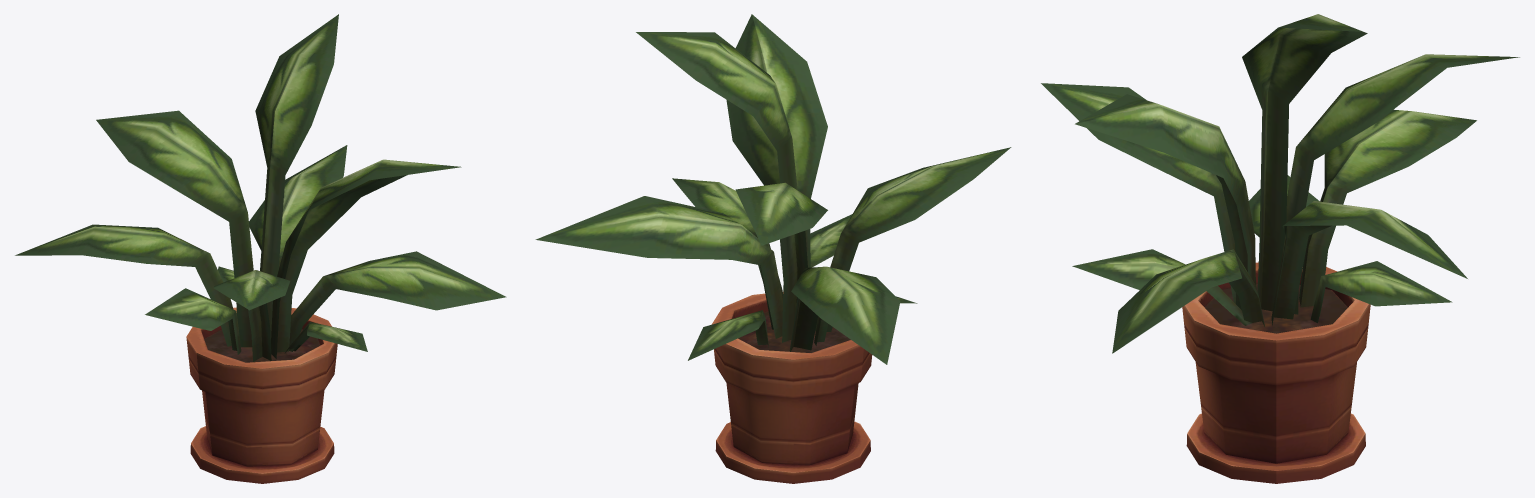
The model's file is planta1.fbx.
3 views of the same model, side by side, from view 1: azimuth 30°, elevation 25°; view 2: azimuth 150°, elevation 25°; view 3: azimuth 270°, elevation 25° (orthographic). The views are drawn at different scales.
Parts seen in each view (by area): view 1: planta; view 2: planta; view 3: planta.
Part boxes in pixels (x1,y1,x2,y2): planta: [15, 14, 506, 483]; planta: [535, 14, 1011, 483]; planta: [1041, 14, 1519, 483].
Bounding box in the file's own units: 71.62 × 76.5 × 69.06.
Materials: 1 (1 with a texture image).
